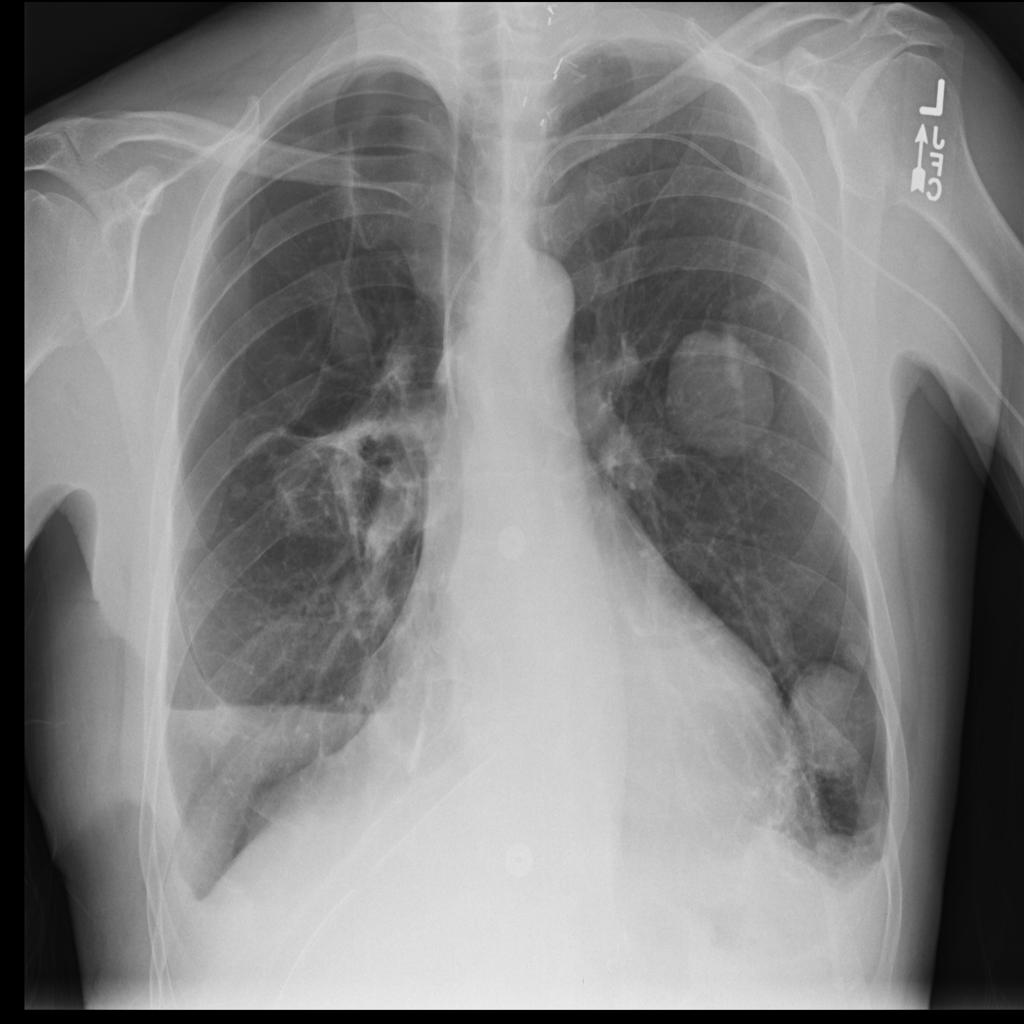nodule: (651, 312, 795, 472), (777, 652, 883, 786), (303, 261, 400, 383), (829, 624, 879, 678), (216, 462, 263, 515)
